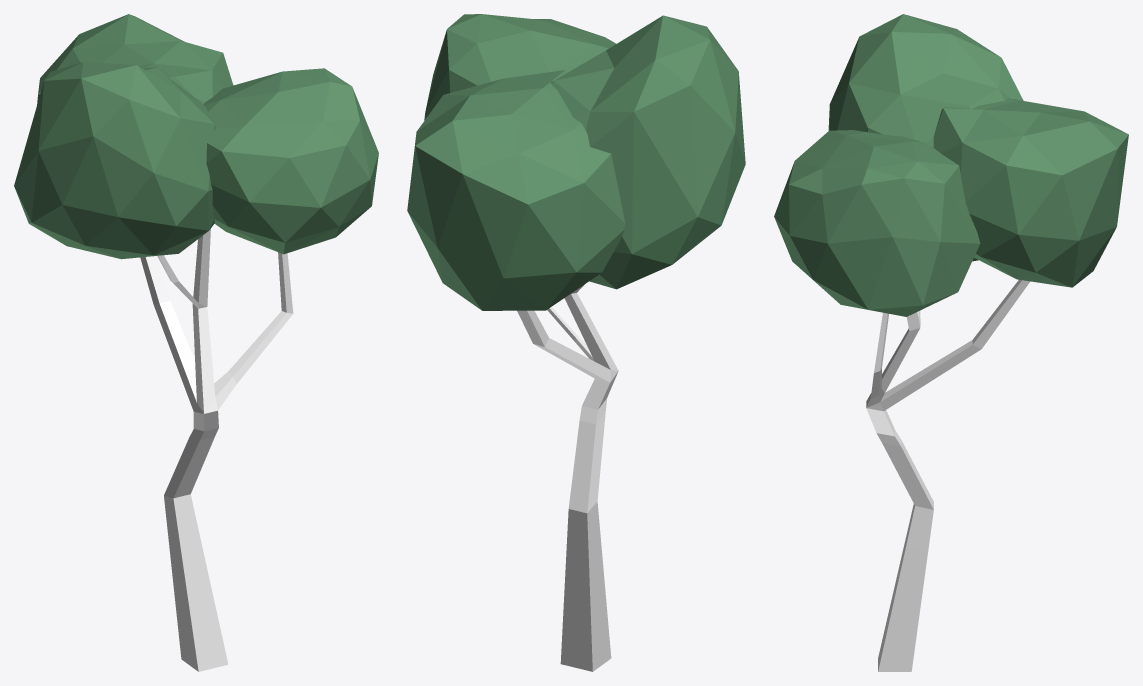
Rendered from GrasslandsTreeType2.fbx.
3 renders of one model, left to right at view 1: azimuth 30°, elevation 25°; view 2: azimuth 150°, elevation 25°; view 3: azimuth 270°, elevation 25°, orthographic. The views are drawn at different scales.
Visible parts, largest first — view 1: GrasslandsTreeType2; view 2: GrasslandsTreeType2; view 3: GrasslandsTreeType2.
Boxes of the visible parts, bbox=[...] form: GrasslandsTreeType2: bbox=[14, 14, 378, 671]; GrasslandsTreeType2: bbox=[407, 14, 745, 671]; GrasslandsTreeType2: bbox=[774, 14, 1128, 671].
Bounding box in the file's own units: 3.13 × 6.18 × 3.31.
